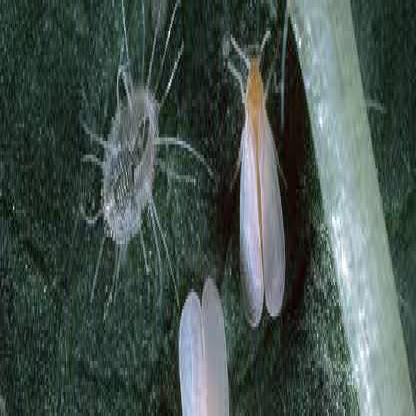whitefly: (241, 62, 286, 325)
